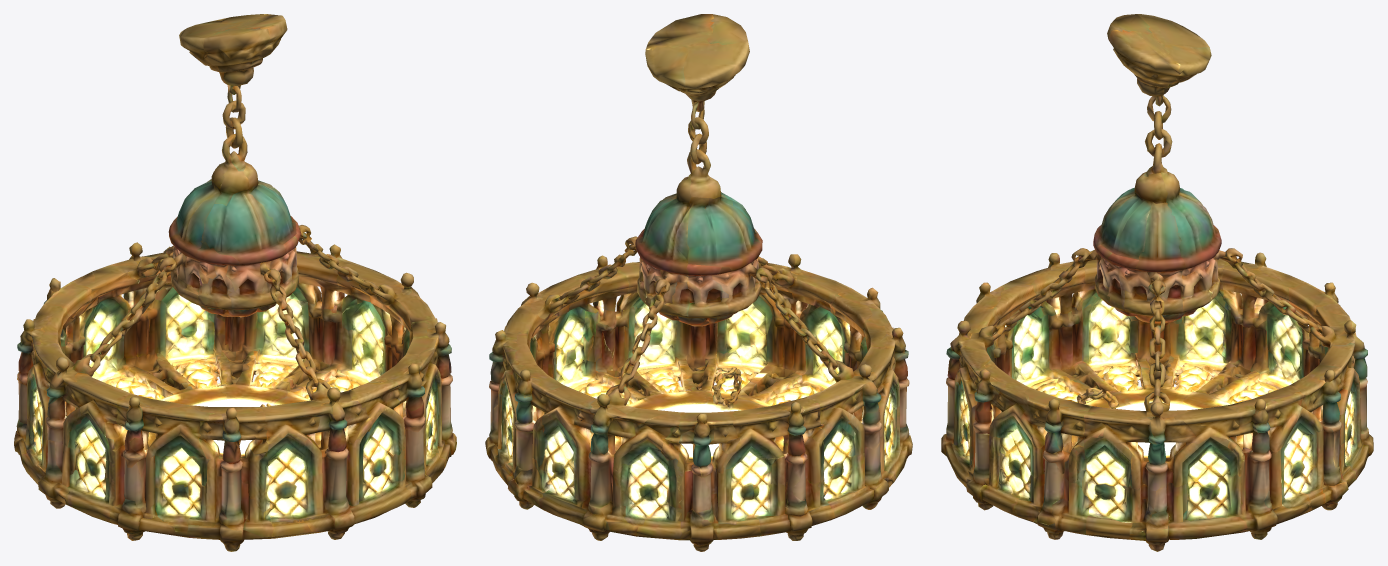
The model's file is Meshy_AI_model.glb.
3 renders of one model, left to right at view 1: azimuth 30°, elevation 25°; view 2: azimuth 150°, elevation 25°; view 3: azimuth 270°, elevation 25°, orthographic. The views are drawn at different scales.
Visible parts, largest first — view 1: mesh_node; view 2: mesh_node; view 3: mesh_node.
Boxes of the visible parts, box(x1,y1,x2,y2) form: mesh_node: box(14, 14, 456, 551); mesh_node: box(485, 14, 912, 551); mesh_node: box(941, 14, 1373, 551).
Size of the model in its own units: 1.45 by 1.9 by 1.45.
Materials: 1 (1 with a texture image).
